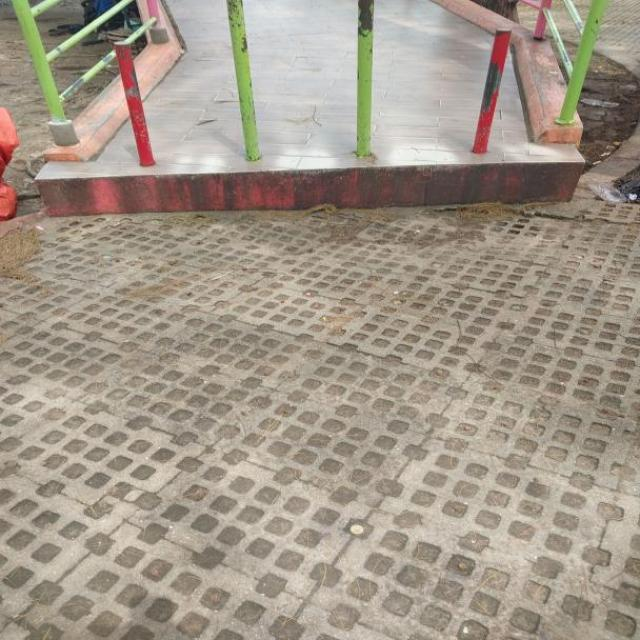barrier ahead at: (220, 0, 269, 165), (106, 36, 156, 167), (476, 15, 517, 161), (346, 0, 380, 158)
